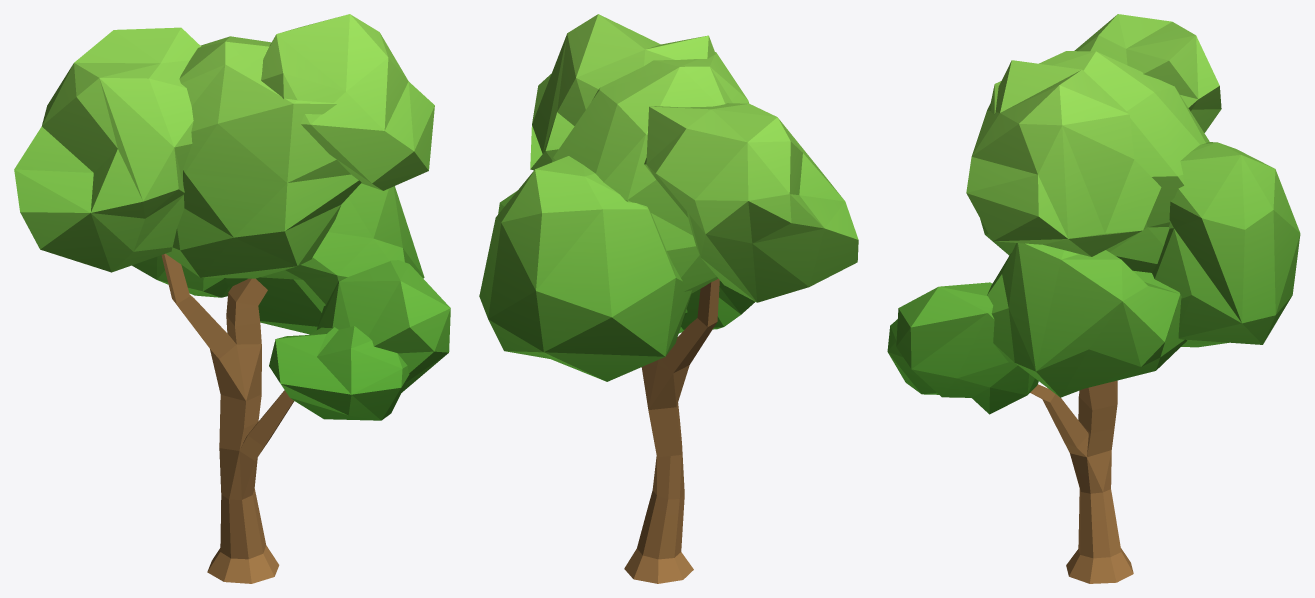
Rendered from LP_Tree_01.fbx.
The picture shows the model from 3 angles, left to right: view 1: azimuth 30°, elevation 25°; view 2: azimuth 150°, elevation 25°; view 3: azimuth 270°, elevation 25°; orthographic projection. The views are drawn at different scales.
Visible parts, largest first — view 1: LP_Tree_01_LOD0; view 2: LP_Tree_01_LOD0; view 3: LP_Tree_01_LOD0.
Part boxes in pixels (left/top/right/bottom): LP_Tree_01_LOD0: left=14, top=14, right=450, bottom=583; LP_Tree_01_LOD0: left=479, top=14, right=858, bottom=583; LP_Tree_01_LOD0: left=887, top=14, right=1300, bottom=583.
Size of what is drawn, in the model's own units: 3.59 by 5.01 by 3.58.
